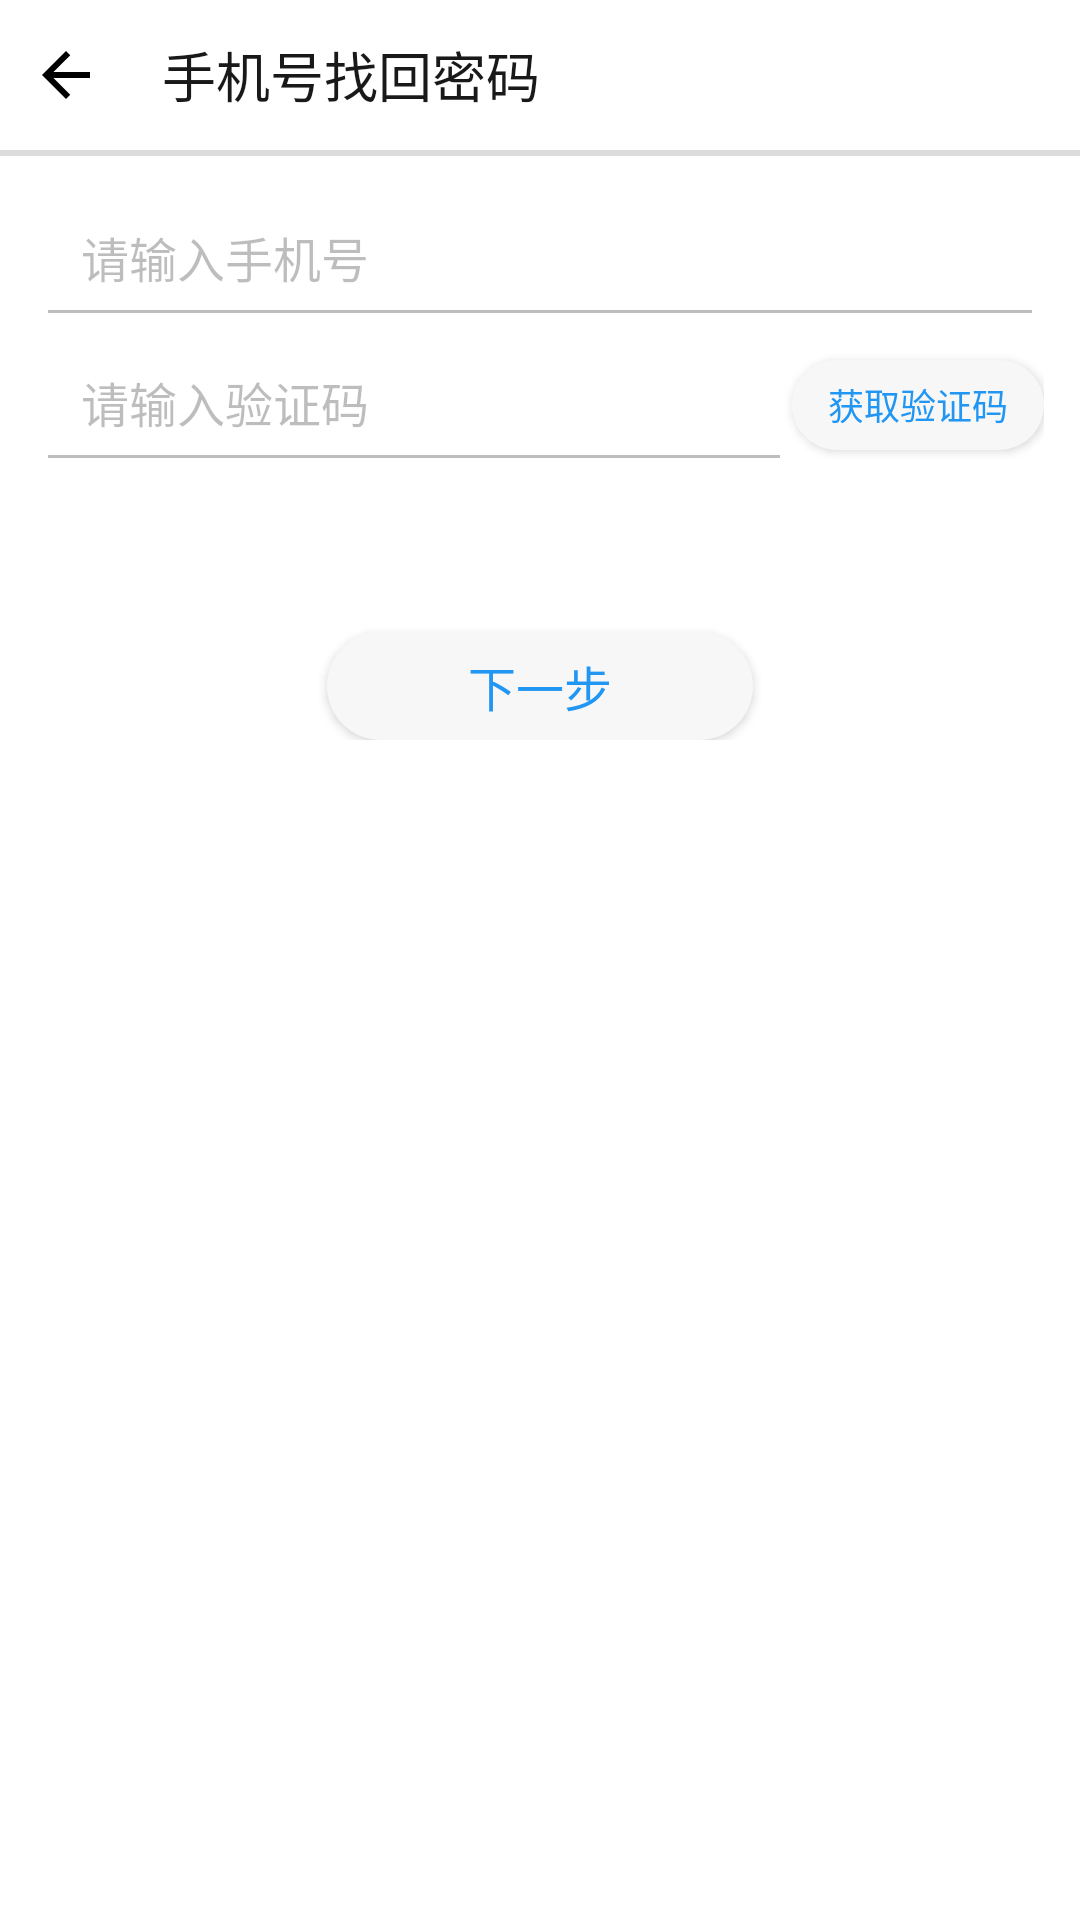

Where icons sit on this 1080w x 1920h app screen, as (x1, y1, x2, y2):
arrow left: (42, 51, 90, 99)
